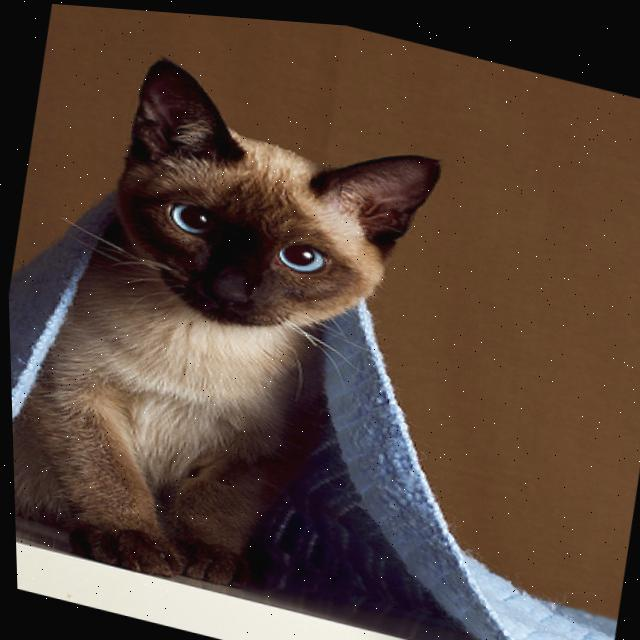Siamese: (0, 17, 470, 636)
